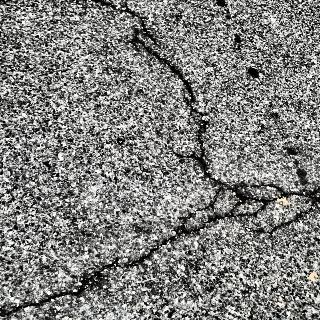crack: (90, 0, 320, 197), (2, 197, 320, 317)
